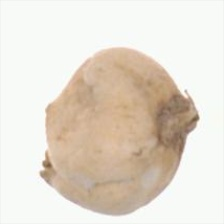L3: (37, 104, 56, 189)
L4: (38, 48, 200, 216)
